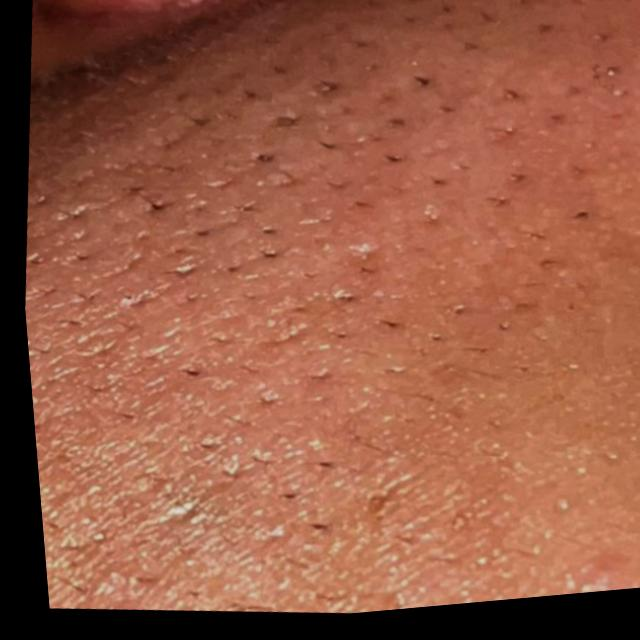blackhead: (73, 0, 637, 548)
